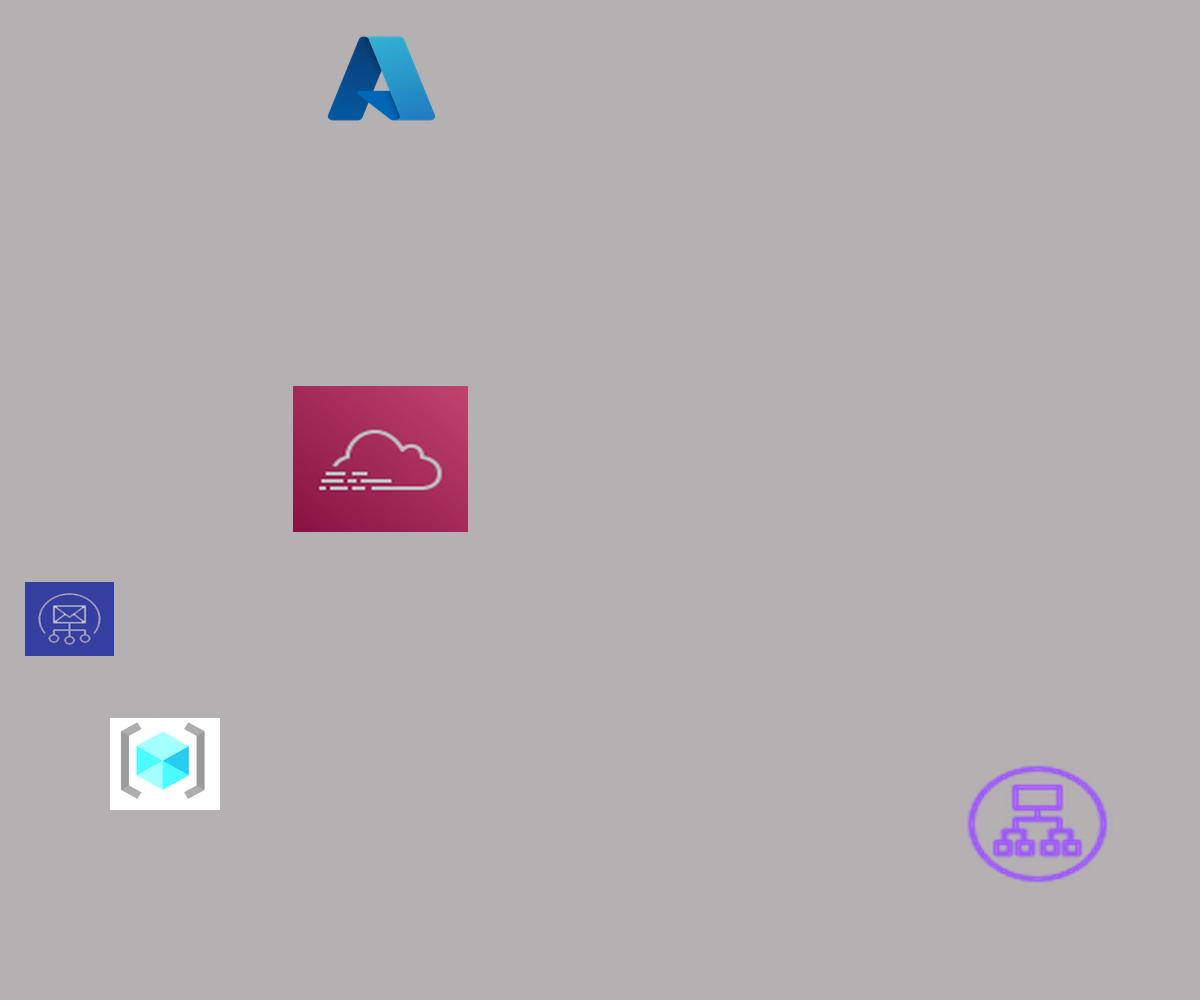AWS-CloudTrail: (293, 386, 468, 532)
AWS-Res_Elastic-Load-Balancing_Application-Load-Balancer: (962, 761, 1113, 887)
AWS-Simple-Email-Service: (25, 582, 114, 656)
Azure_resource_group: (110, 718, 220, 810)
Azure_services: (323, 30, 440, 127)
